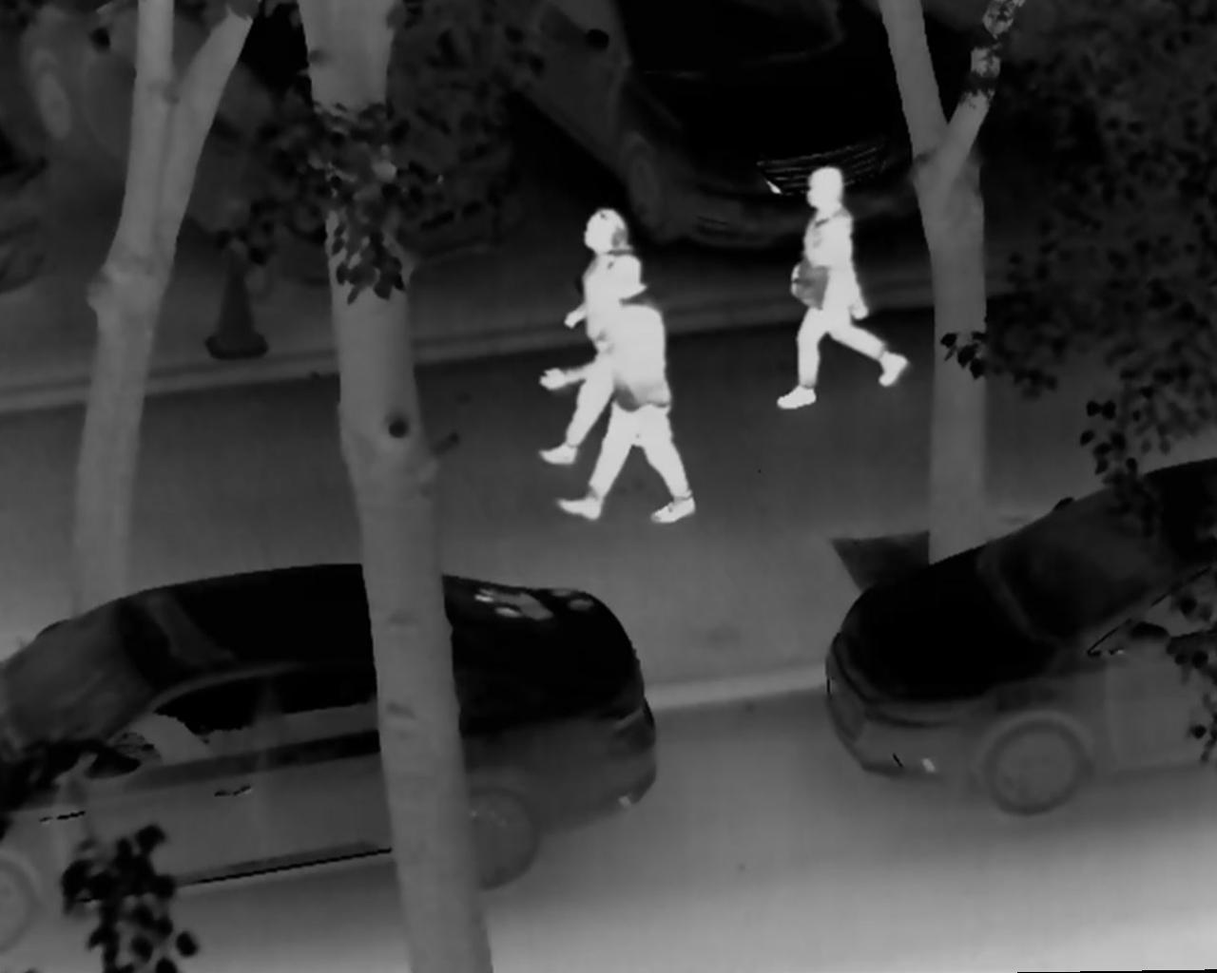person: (538, 254, 704, 525), (532, 204, 682, 467), (767, 164, 913, 413)
